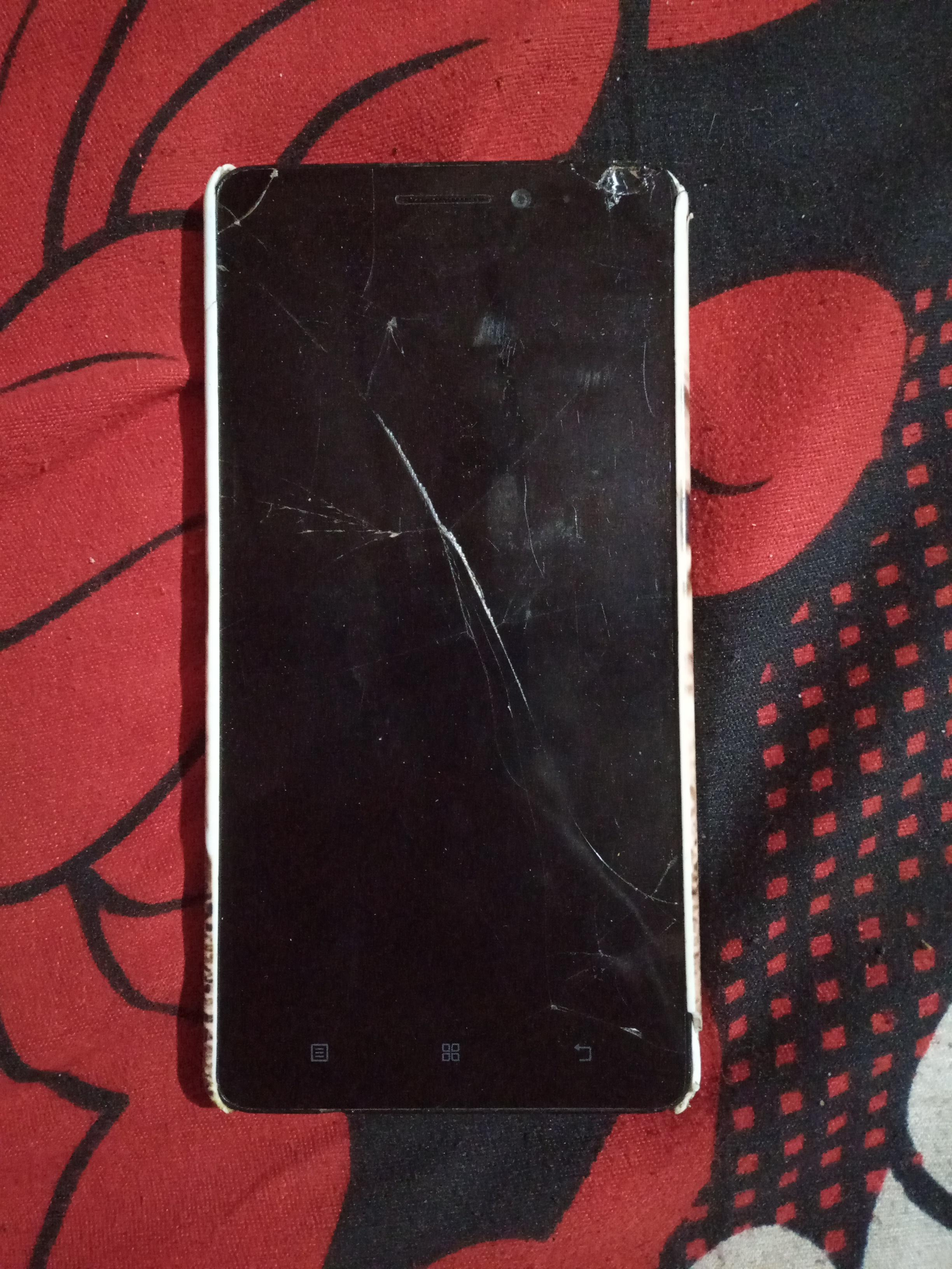Crack: (273, 373, 601, 740), (569, 163, 679, 263), (214, 179, 289, 247)
Scratches: (562, 830, 681, 929)
